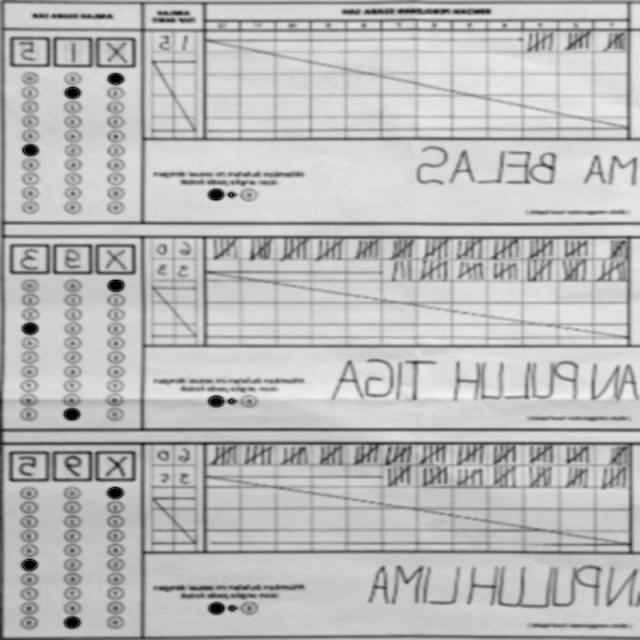Suara: (8, 444, 141, 481), (10, 31, 139, 68), (10, 239, 140, 275)
